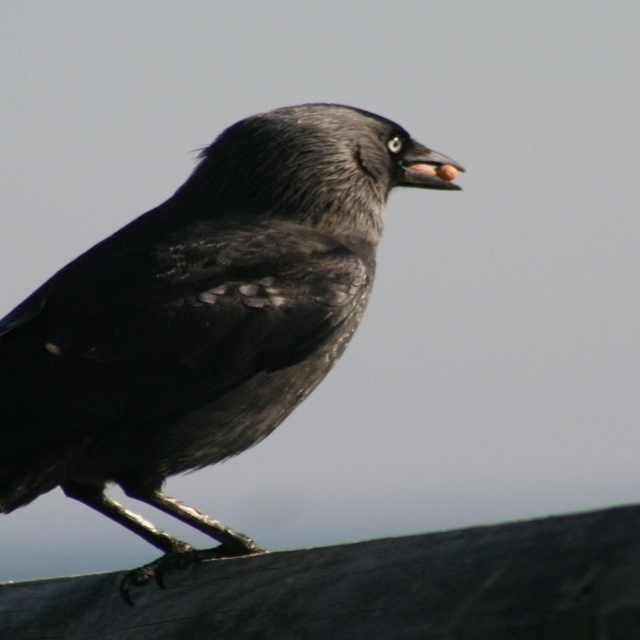Raven: (0, 75, 470, 590)
